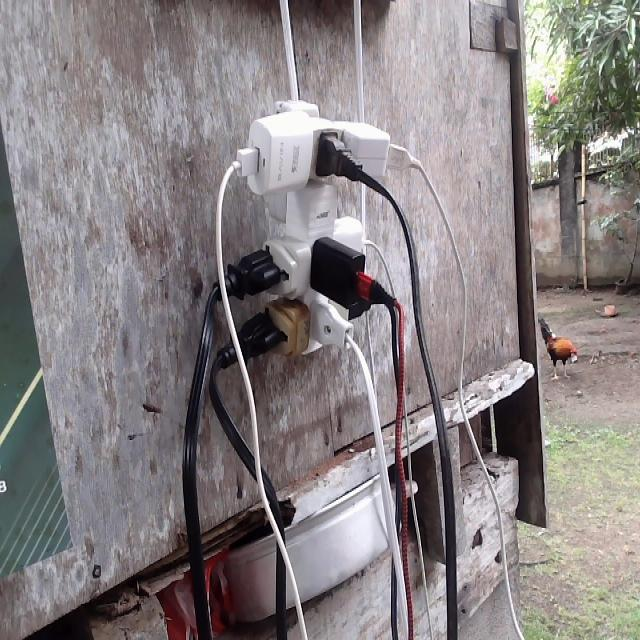-: (213, 100, 416, 368)
